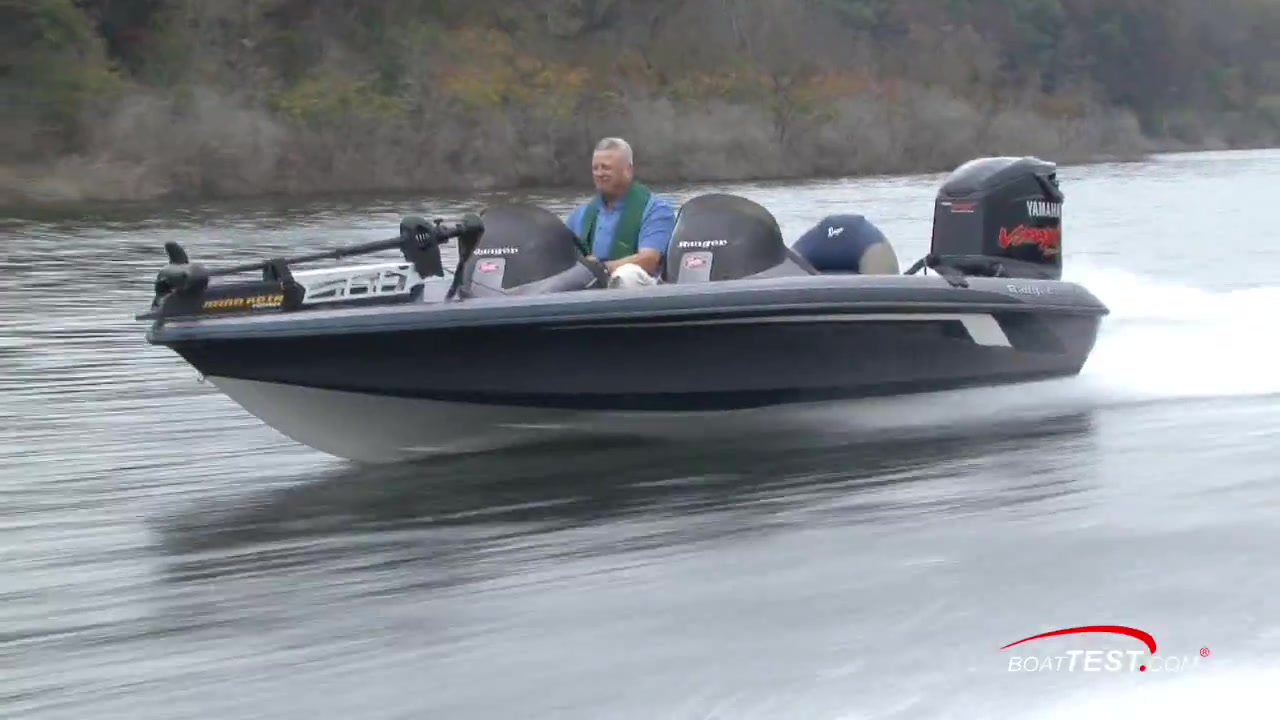boat: (141, 155, 1107, 471)
